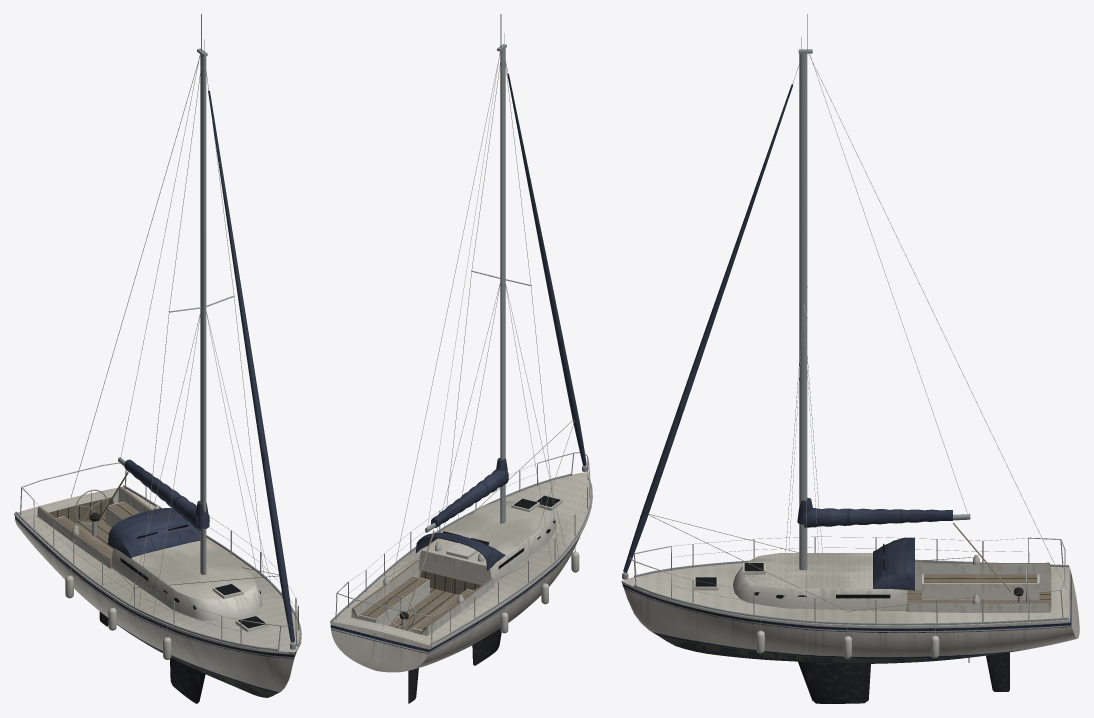
Rendered from sailYacht-a-lod0.glb.
The picture shows the model from 3 angles, left to right: view 1: azimuth 30°, elevation 25°; view 2: azimuth 150°, elevation 25°; view 3: azimuth 270°, elevation 25°; orthographic projection. The views are drawn at different scales.
Parts seen in each view (by area): view 1: Hull, Rig, Superstructure, Gear; view 2: Hull, Superstructure, Rig, Gear; view 3: Hull, Superstructure, Rig, Gear.
Part boxes in pixels (left/top/right/bottom): Hull: left=14, top=485, right=301, bottom=703; Rig: left=71, top=14, right=295, bottom=649; Superstructure: left=56, top=501, right=268, bottom=632; Gear: left=20, top=462, right=298, bottom=659; Hull: left=330, top=472, right=592, bottom=703; Superstructure: left=358, top=495, right=562, bottom=633; Rig: left=382, top=14, right=587, bottom=629; Gear: left=335, top=452, right=590, bottom=642; Hull: left=621, top=559, right=1079, bottom=703; Superstructure: left=694, top=537, right=1039, bottom=610; Rig: left=622, top=14, right=1066, bottom=619; Gear: left=629, top=523, right=1065, bottom=658.
Size of the model in its own units: 3.81 by 17.45 by 10.52.
Materials: 1 (1 with a texture image).
